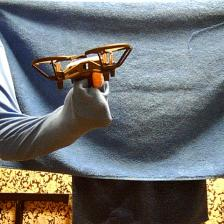drone: (31, 40, 136, 91)
